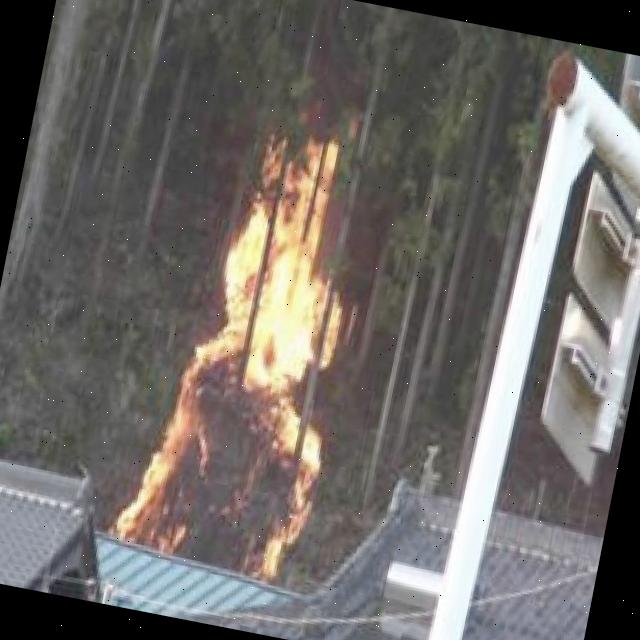fire: (127, 116, 386, 584)
